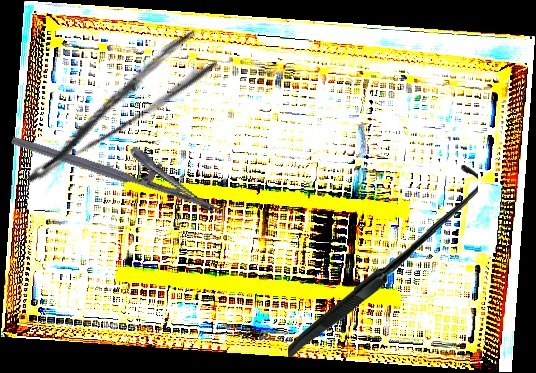Dressing Forceps: (3, 27, 222, 189)
Hook Surgical: (284, 164, 481, 357)
Needle Holder: (10, 107, 227, 215)
